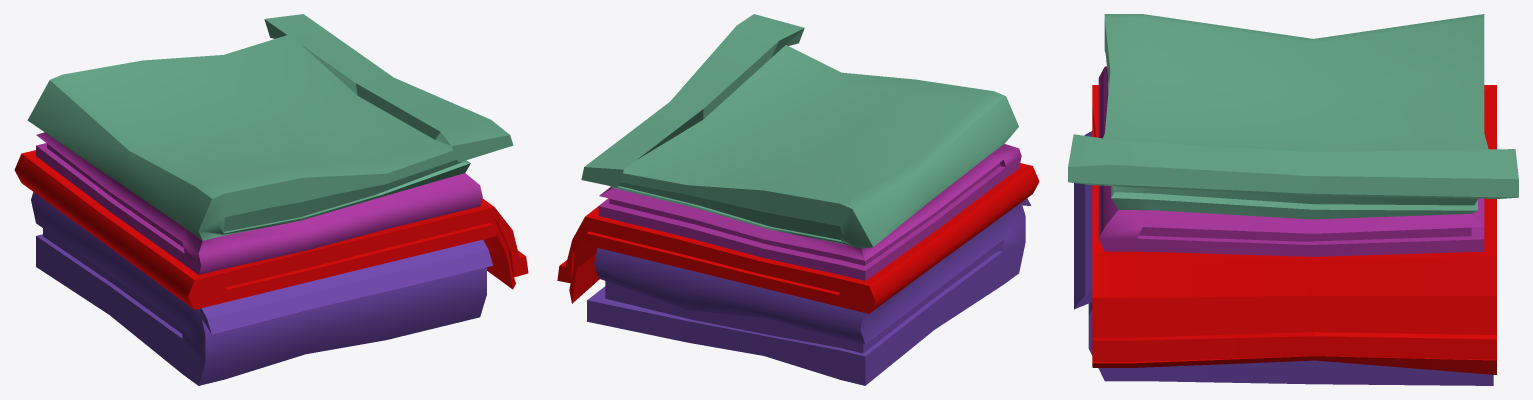
The model's file is cloth_01.fbx.
3 views of the same model, side by side, from view 1: azimuth 30°, elevation 25°; view 2: azimuth 150°, elevation 25°; view 3: azimuth 270°, elevation 25° (orthographic). The views are drawn at different scales.
Visible parts, largest first — view 1: cloth_01; view 2: cloth_01; view 3: cloth_01.
Boxes of the visible parts, box(x1,y1,x2,y2) form: cloth_01: box(14, 14, 528, 385); cloth_01: box(557, 14, 1039, 385); cloth_01: box(1068, 14, 1518, 385).
Size of the model in its own units: 32.14 by 17.54 by 31.53.
